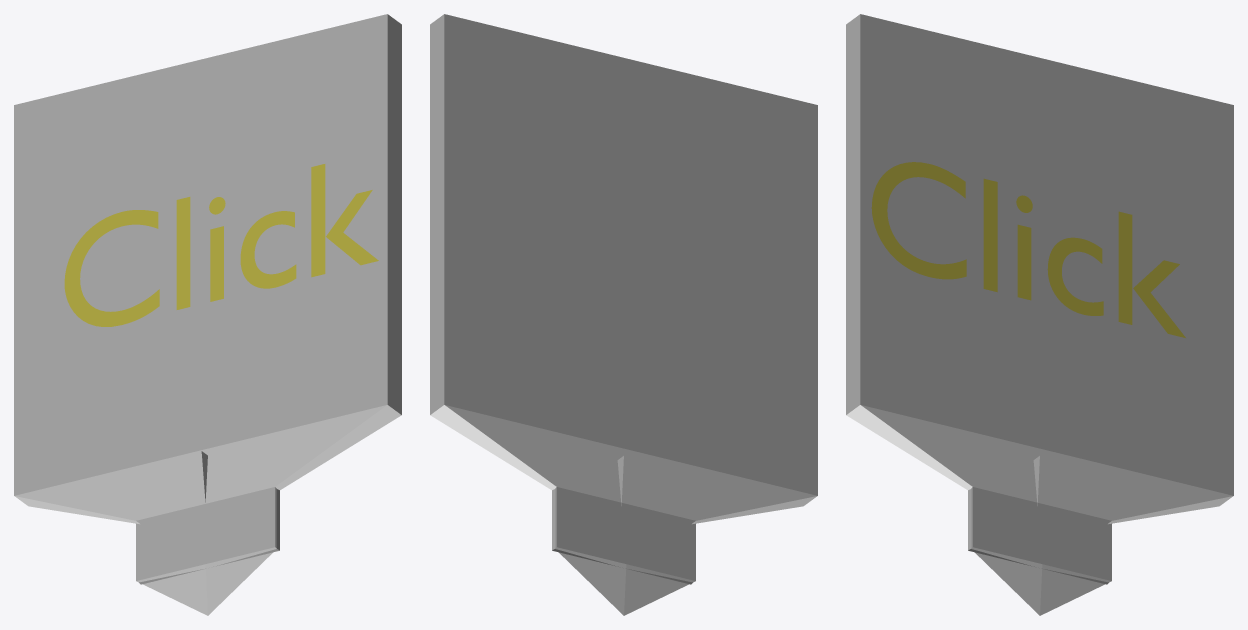
The model's file is Paiy.glb.
3 renders of one model, left to right at view 1: azimuth 30°, elevation 25°; view 2: azimuth 150°, elevation 25°; view 3: azimuth 330°, elevation 25°, orthographic.
Visible parts, largest first — view 1: Plane.001, Text.001; view 2: Plane.001; view 3: Plane.001, Text.001.
Boxes of the visible parts, x1=… form: Plane.001: x1=14, y1=14, x2=401, y2=615; Text.001: x1=64, y1=164, x2=378, y2=326; Plane.001: x1=430, y1=14, x2=817, y2=615; Plane.001: x1=846, y1=14, x2=1233, y2=615; Text.001: x1=871, y1=162, x2=1185, y2=337.
Size of the model in its own units: 0.9587 by 1.35 by 0.0867.
